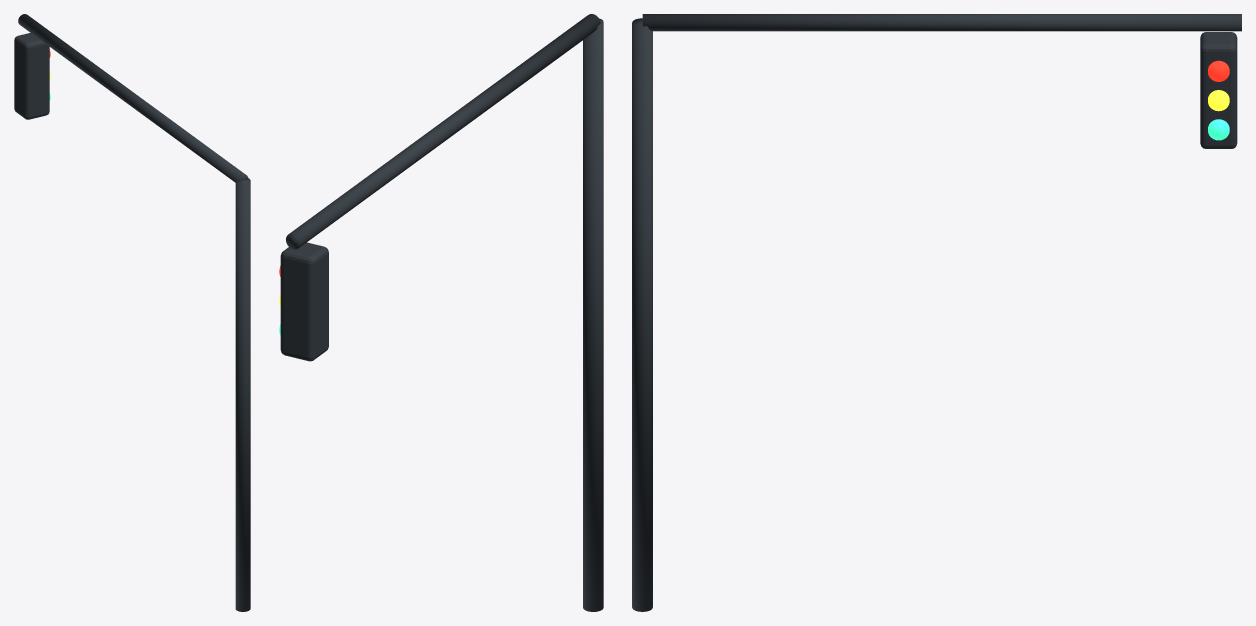
The model's file is SM_TrafficLight.fbx.
3 views of the same model, side by side, from view 1: azimuth 30°, elevation 25°; view 2: azimuth 150°, elevation 25°; view 3: azimuth 270°, elevation 25° (orthographic). The views are drawn at different scales.
Parts seen in each view (by area): view 1: SM_TrafficLight; view 2: SM_TrafficLight; view 3: SM_TrafficLight.
Boxes of the visible parts, bbox=[...] form: SM_TrafficLight: bbox=[14, 14, 250, 611]; SM_TrafficLight: bbox=[279, 14, 603, 611]; SM_TrafficLight: bbox=[632, 14, 1241, 611].
Bounding box in the file's own units: 37 × 529 × 568.
